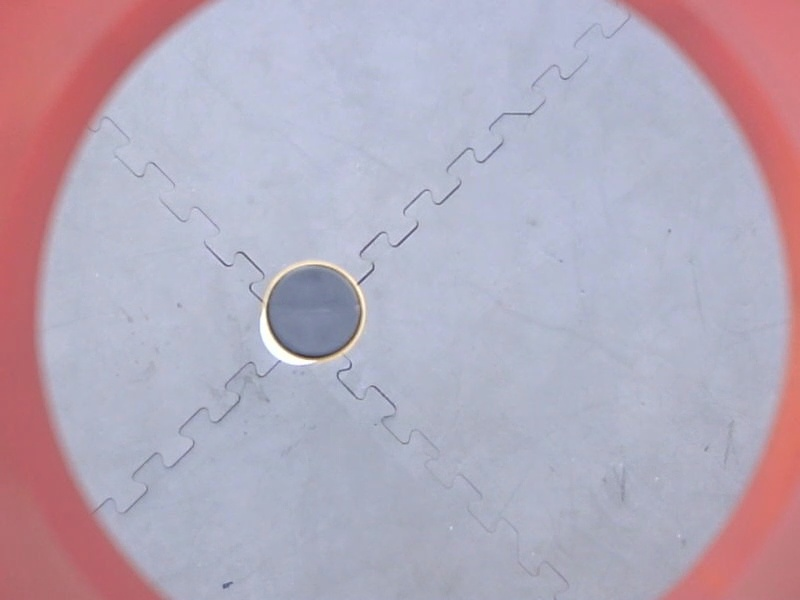tip: (255, 256, 374, 372)
